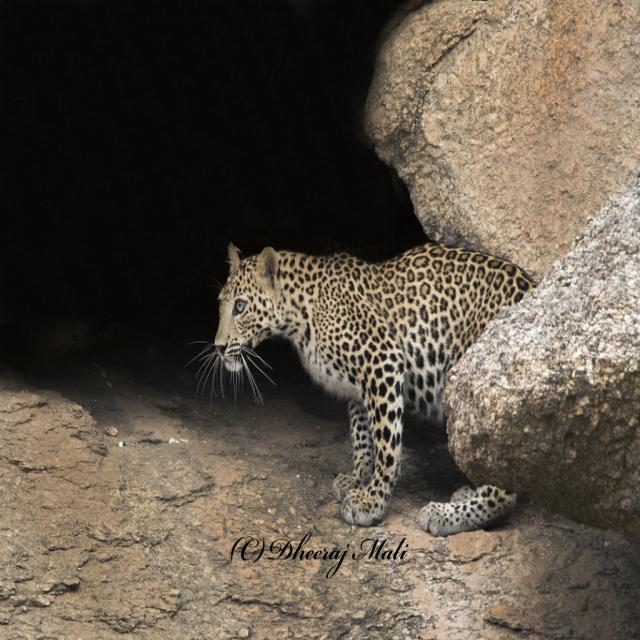Leopard: (213, 248, 540, 524)
